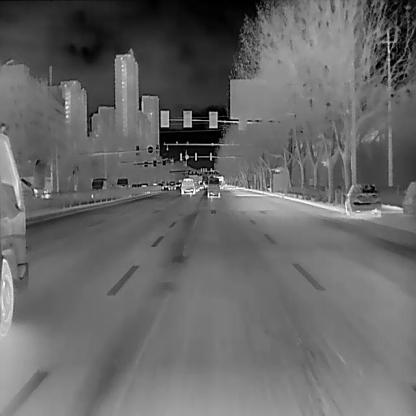car: (343, 181, 381, 217), (402, 180, 416, 216), (206, 176, 220, 198), (179, 177, 194, 195), (166, 180, 176, 190)
truck: (0, 121, 53, 336), (89, 176, 105, 190), (114, 176, 128, 187)
